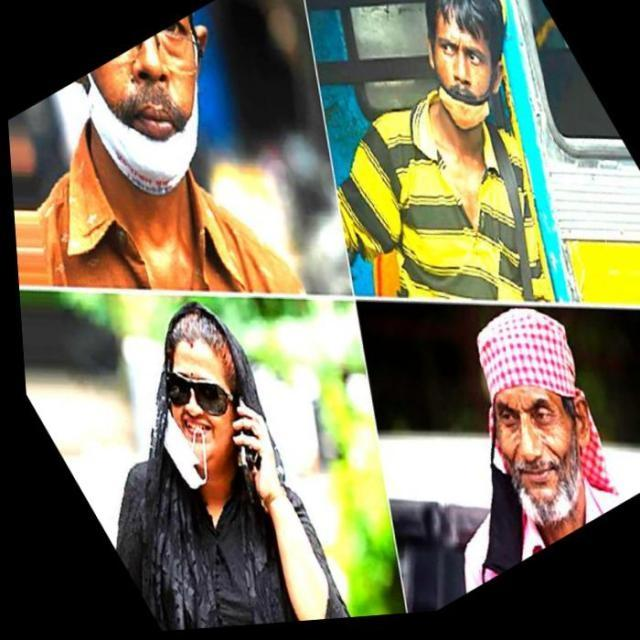hairnet: (64, 15, 258, 215), (442, 384, 601, 552), (129, 352, 260, 498), (410, 23, 521, 147)
